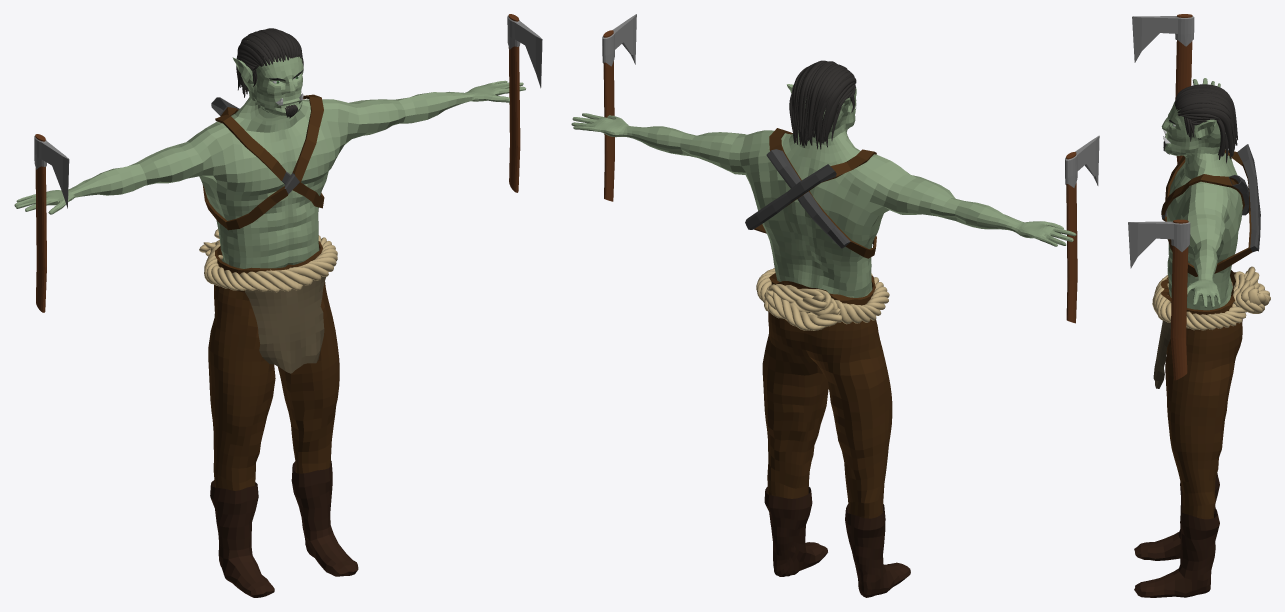
Rendered from barbarian_ork1.fbx.
The picture shows the model from 3 angles, left to right: view 1: azimuth 30°, elevation 25°; view 2: azimuth 150°, elevation 25°; view 3: azimuth 270°, elevation 25°; orthographic projection. The views are drawn at different scales.
Parts seen in each view (by area): view 1: retopobody, pants, BOOTS, axeholder, ropebelt, axe1, axe2; view 2: retopobody, pants, BOOTS, ropebelt, axeholder, axe2, axe1; view 3: pants, retopobody, BOOTS, axe1, axeholder, ropebelt, axe2, NurbsPath.017, NurbsPath.015, NurbsPath.013, NurbsPath.014, NurbsPath.004.
Part boxes in pixels (bbox=[...]): retopobody: bbox=[14, 40, 525, 268]; pants: bbox=[208, 241, 339, 490]; BOOTS: bbox=[210, 461, 358, 597]; axeholder: bbox=[202, 94, 324, 230]; ropebelt: bbox=[199, 229, 337, 292]; axe1: bbox=[507, 14, 542, 192]; axe2: bbox=[34, 134, 69, 312]; retopobody: bbox=[571, 84, 1076, 297]; pants: bbox=[762, 273, 892, 518]; BOOTS: bbox=[764, 486, 910, 597]; ropebelt: bbox=[756, 268, 889, 330]; axeholder: bbox=[745, 128, 876, 258]; axe2: bbox=[1065, 135, 1099, 323]; axe1: bbox=[602, 14, 636, 201]; pants: bbox=[1153, 270, 1242, 519]; retopobody: bbox=[1161, 78, 1242, 310]; BOOTS: bbox=[1134, 473, 1219, 597]; axe1: bbox=[1128, 219, 1190, 380]; axeholder: bbox=[1161, 144, 1260, 276]; ropebelt: bbox=[1152, 266, 1270, 330]; axe2: bbox=[1132, 14, 1194, 164]; NurbsPath.017: bbox=[1177, 109, 1232, 152]; NurbsPath.015: bbox=[1177, 103, 1235, 140]; NurbsPath.013: bbox=[1176, 97, 1234, 141]; NurbsPath.014: bbox=[1177, 100, 1234, 143]; NurbsPath.004: bbox=[1175, 91, 1235, 141].
Size of the model in its own units: 250 by 250 by 66.22.
